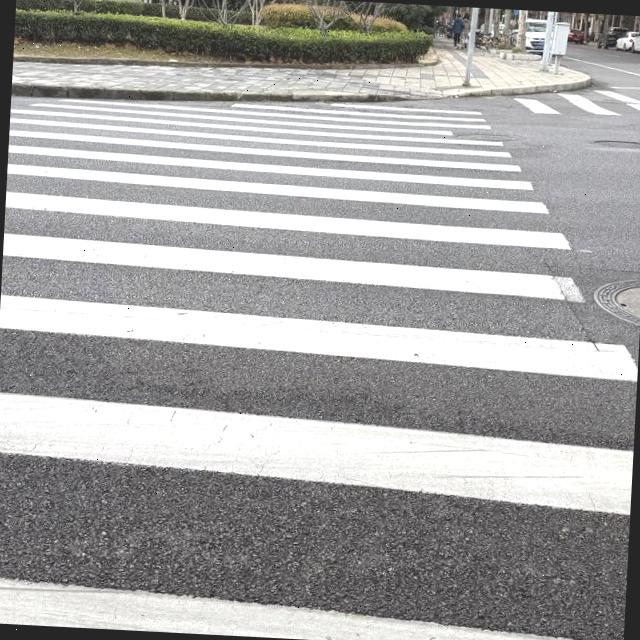curb: (11, 84, 413, 103), (13, 56, 439, 70), (439, 77, 594, 97)
